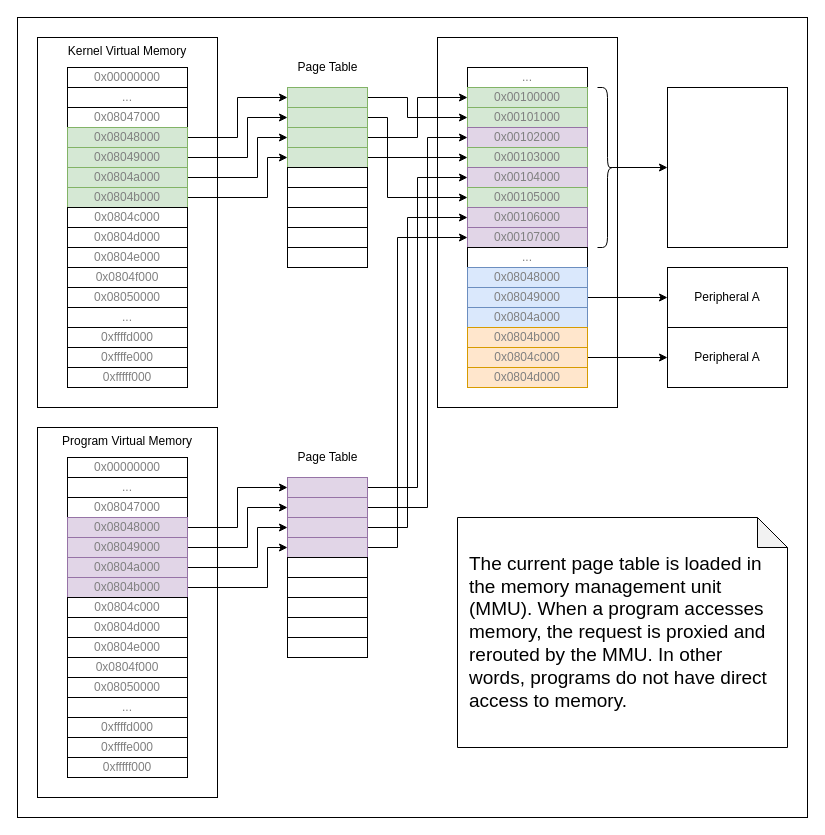
Some shapes in this 825 by 835 pixel diagram are drawn without their labels. The shapes that lost their labels are listed below. From the top down, each one's box as (x1, y1, x2, y2) in pixels, then its label:
(666, 86, 788, 248): RAM
(436, 36, 618, 408): Physical Memory
